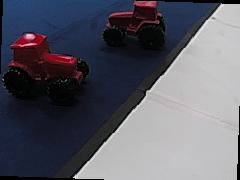Tracktor: (2, 32, 92, 102), (102, 0, 167, 50)
